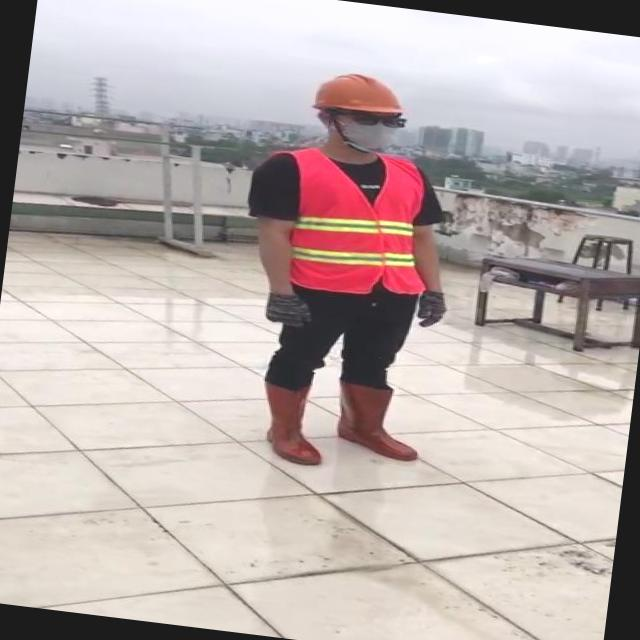boots: (332, 376, 430, 463), (250, 376, 336, 471)
gloves: (247, 272, 320, 340), (397, 285, 450, 333)
helmet: (306, 63, 408, 120)
vest: (264, 141, 444, 302)
